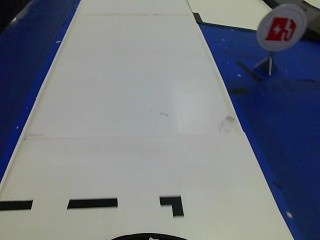battery: (258, 4, 304, 53)
